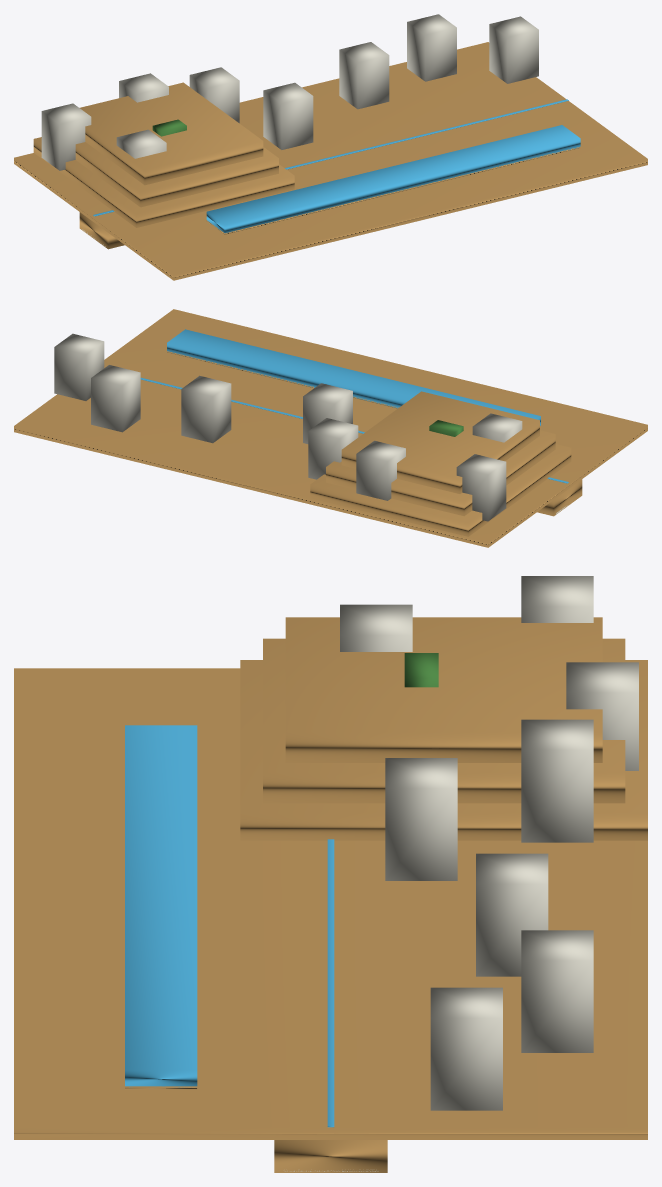
3 renders of one model, top to bottom at view 1: azimuth 30°, elevation 25°; view 2: azimuth 150°, elevation 25°; view 3: azimuth 270°, elevation 25°, orthographic. The views are drawn at different scales.
Parts seen in each view (by area): view 1: granite_simplified, features_simplified; view 2: granite_simplified, features_simplified; view 3: granite_simplified, features_simplified.
Part boxes in pixels (x1,y1,x2,y2): granite_simplified: [14, 42, 647, 280]; features_simplified: [41, 14, 580, 246]; granite_simplified: [14, 309, 647, 547]; features_simplified: [54, 329, 568, 521]; granite_simplified: [14, 617, 647, 1172]; features_simplified: [125, 576, 638, 1171].
Size of the model in its own units: 48 by 7.35 by 28.
2 materials, 2 textured.
